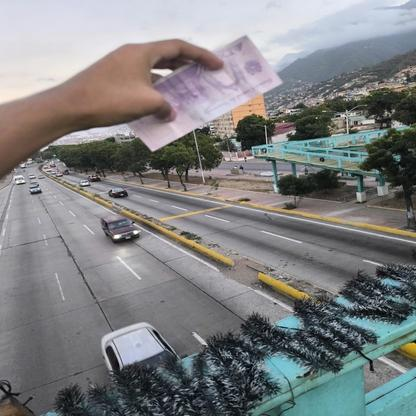one_hundred-back-vef: (124, 33, 284, 152)
